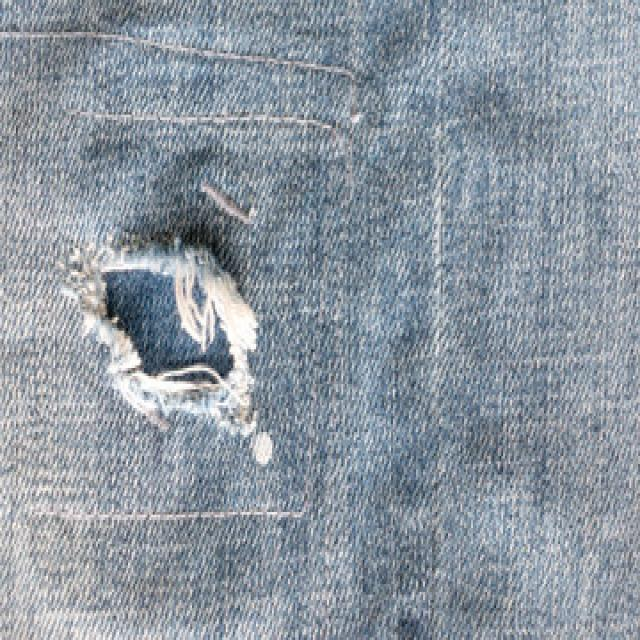Hole: (64, 234, 258, 436)
Knot: (201, 181, 257, 224)
Line: (0, 32, 355, 80), (427, 0, 446, 637), (68, 110, 339, 130), (31, 509, 305, 524)
Stain: (253, 433, 273, 466)
